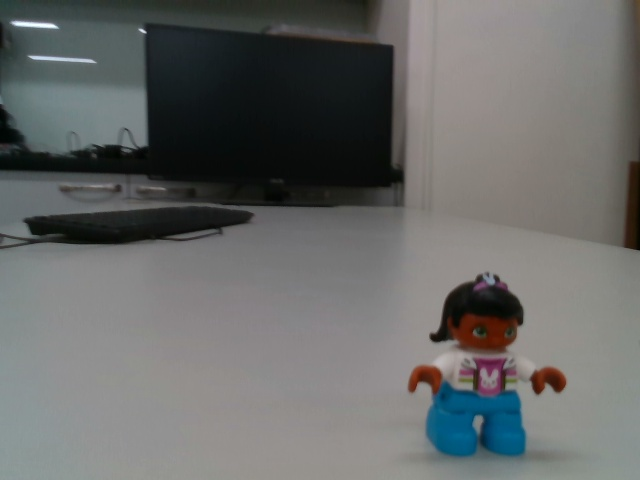people: (407, 267, 571, 460)
